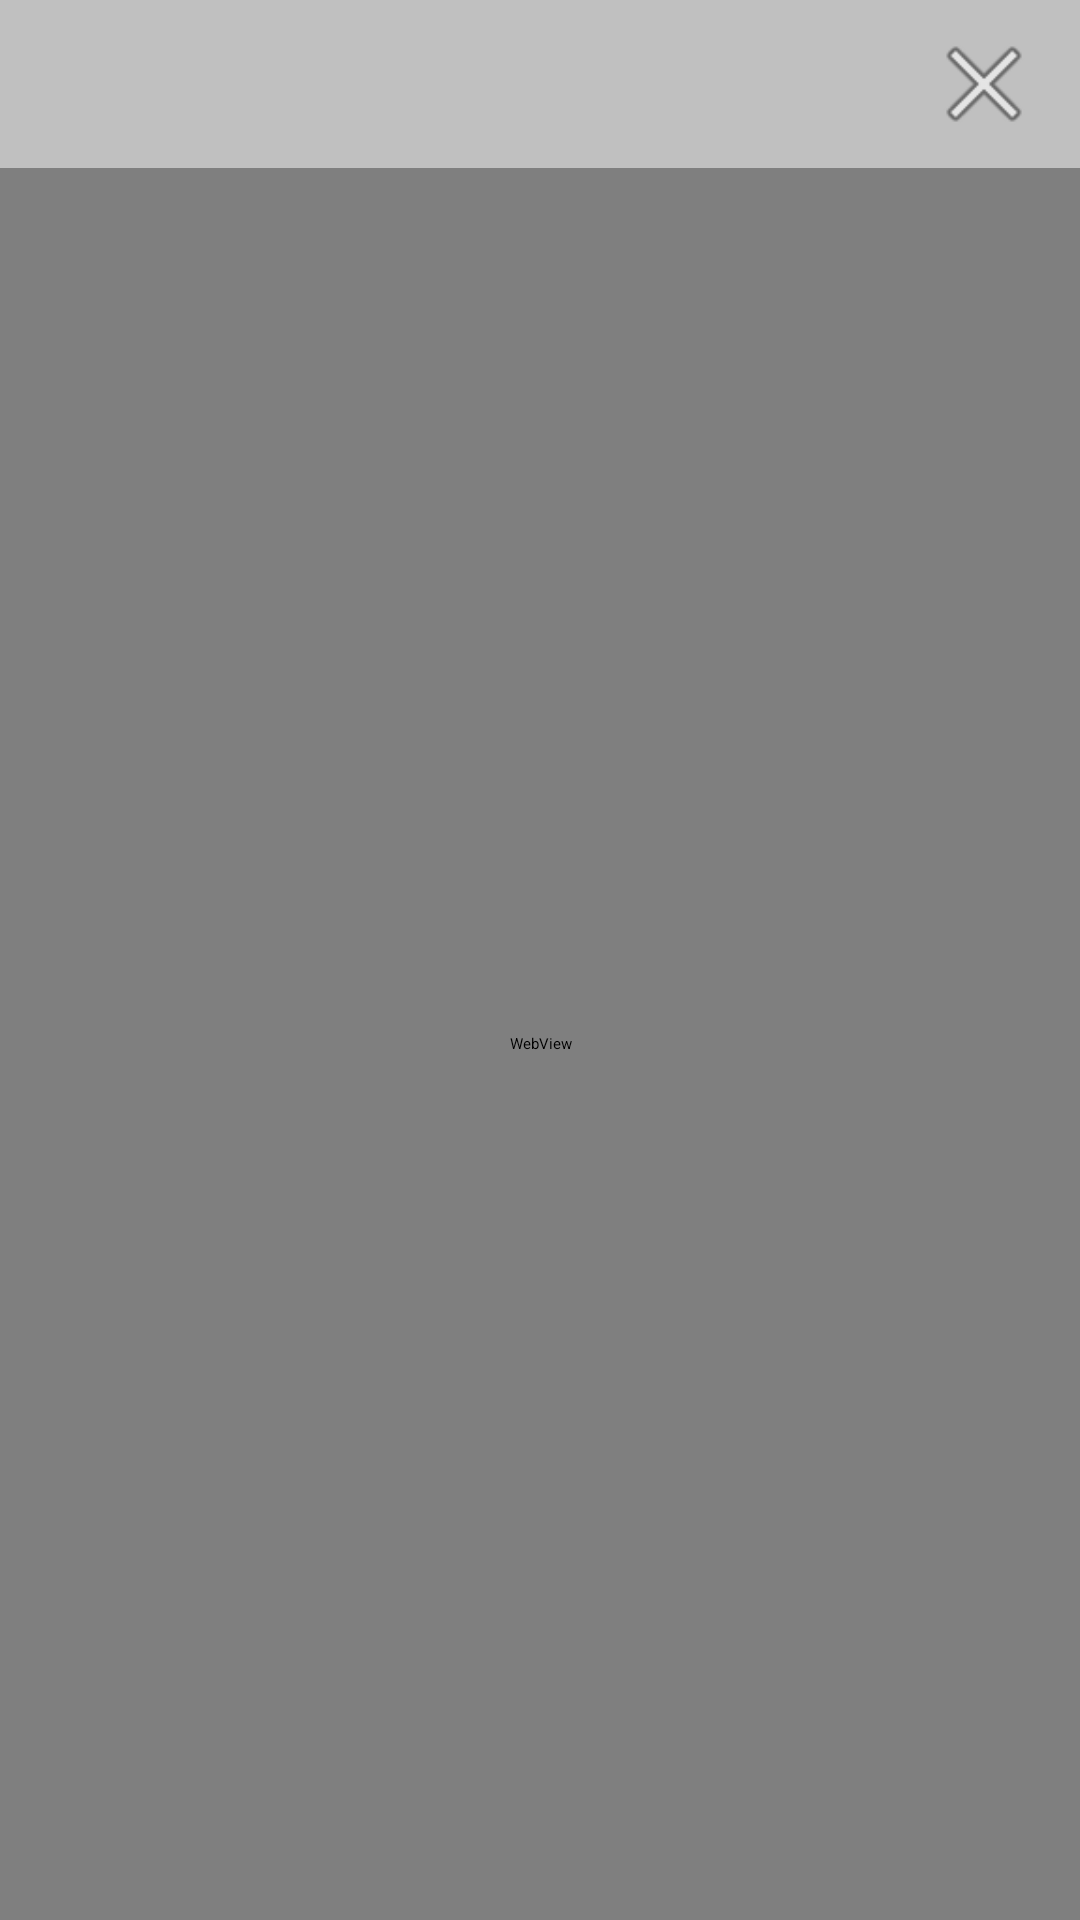

Point at icon controls on the screen. Image size 1080px×1920px, points as point (x, y).
close clear cancel: point (984, 84)
